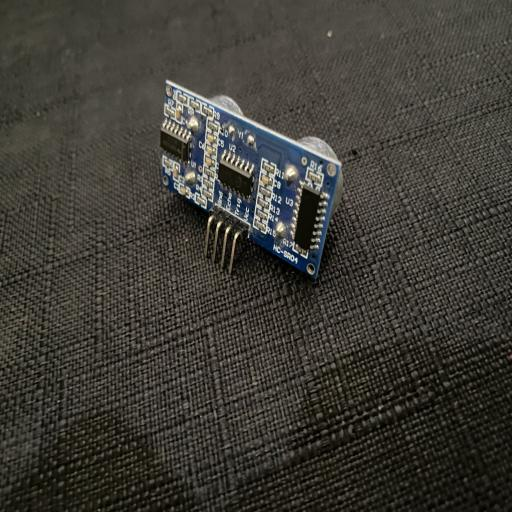Ultrasonic Sensor: (158, 77, 344, 281)
